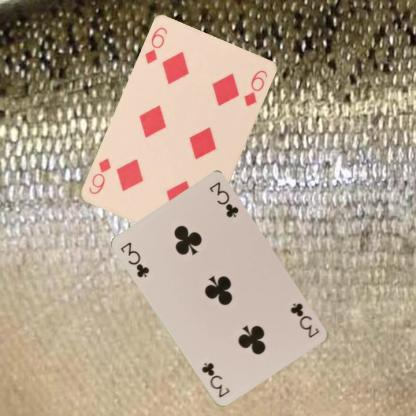3c: (118, 239, 151, 279), (288, 300, 320, 339)
6d: (142, 22, 169, 66)
